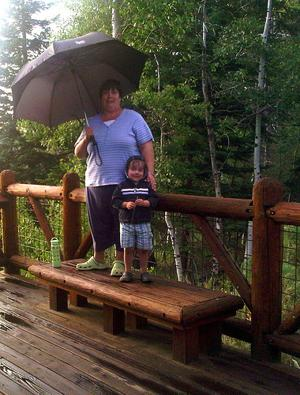person: (74, 78, 156, 277)
